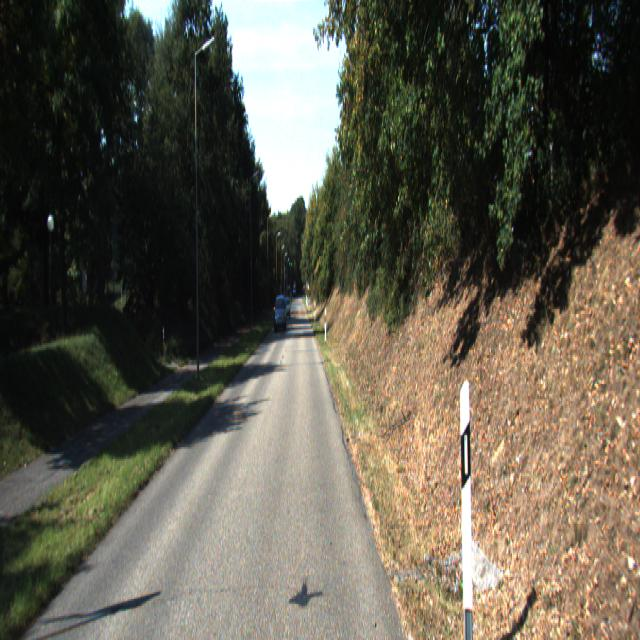Car: (274, 294, 286, 332)
